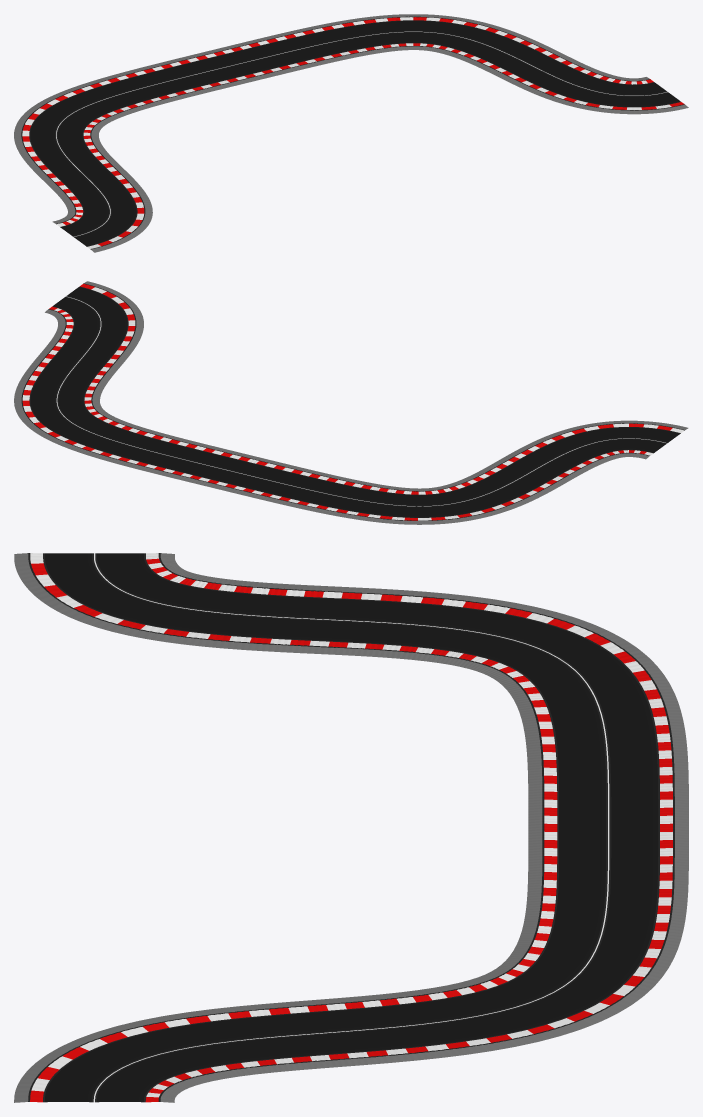
Rendered from S0.Group.202.export.A1M1H0cornLhard.glb.
The picture shows the model from 3 angles, top to bottom: view 1: azimuth 30°, elevation 25°; view 2: azimuth 150°, elevation 25°; view 3: azimuth 270°, elevation 25°; orthographic projection. The views are drawn at different scales.
Parts seen in each view (by area): view 1: Grid; view 2: Grid; view 3: Grid.
Part boxes in pixels (x1,y1,x2,y2): Grid: [14, 14, 688, 252]; Grid: [14, 281, 688, 524]; Grid: [14, 553, 688, 1102].
Bounding box in the file's own units: 202 × 0.21 × 105.
